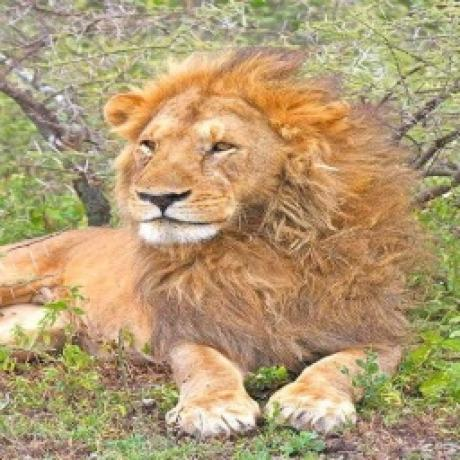Lion: (0, 41, 428, 432)
